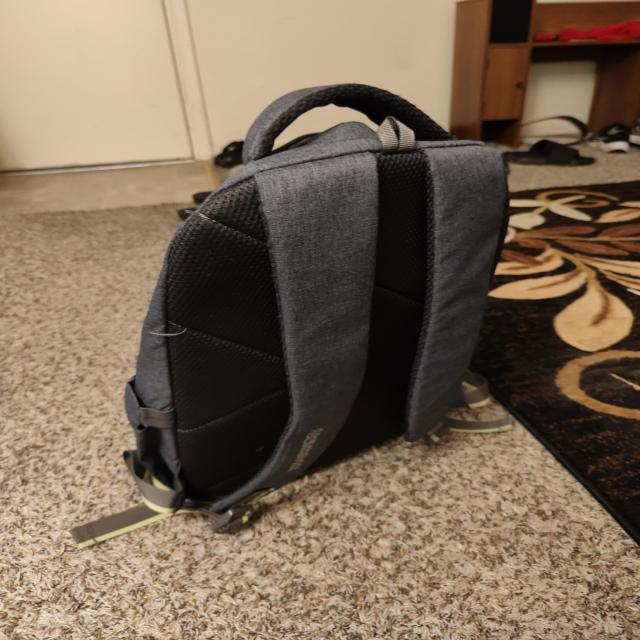bag: (155, 137, 473, 508)
